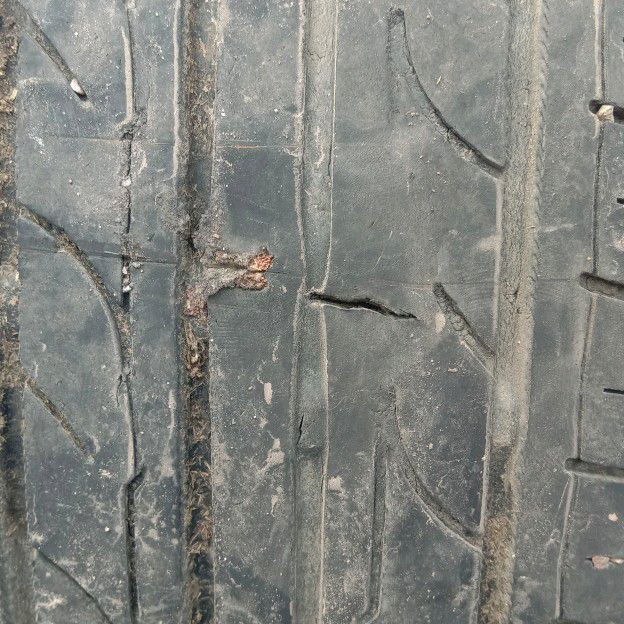tr: (301, 288, 424, 322)
